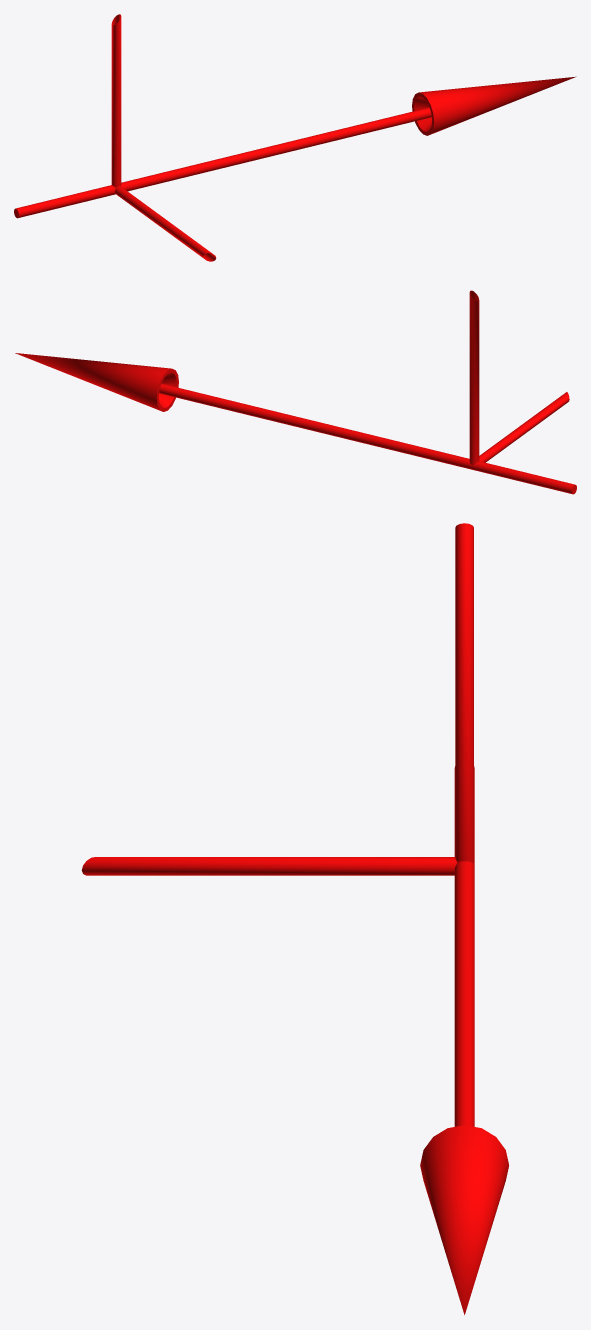
The model's file is Translate_X.glb.
The picture shows the model from 3 angles, top to bottom: view 1: azimuth 30°, elevation 25°; view 2: azimuth 150°, elevation 25°; view 3: azimuth 270°, elevation 25°; orthographic projection. The views are drawn at different scales.
Parts seen in each view (by area): view 1: Translate_X; view 2: Translate_X; view 3: Translate_X.
Boxes of the visible parts, <box> form: Translate_X: <box>14,14,576,261</box>; Translate_X: <box>15,290,576,494</box>; Translate_X: <box>81,523,508,1314</box>.
Size of the model in its own units: 0.1359 by 0.0449 by 0.0449.
